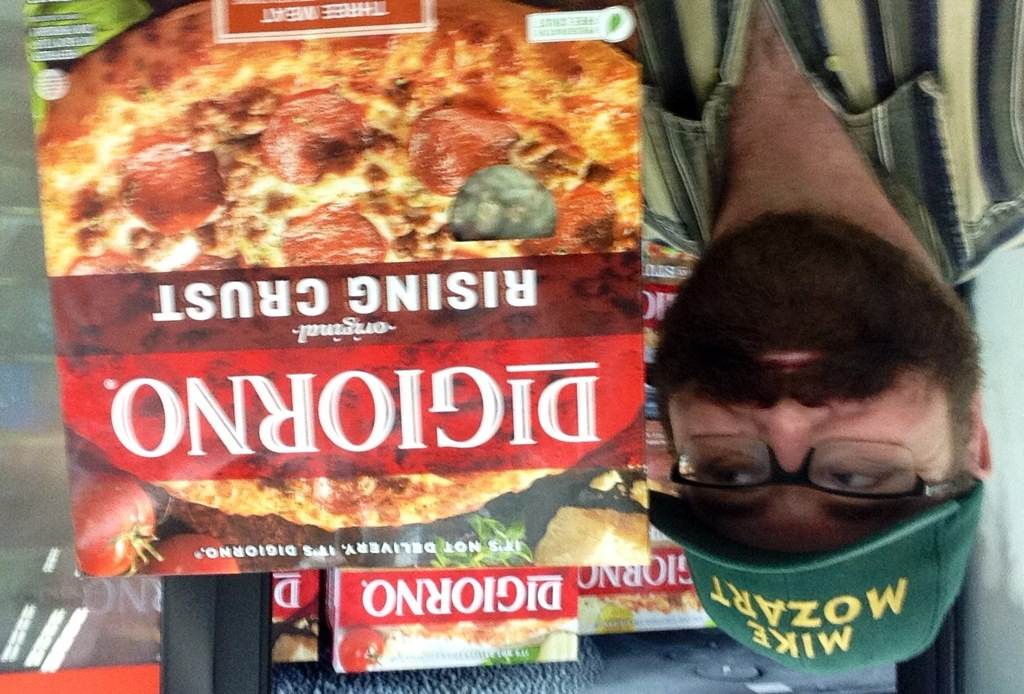Pizza: (17, 28, 671, 305)
